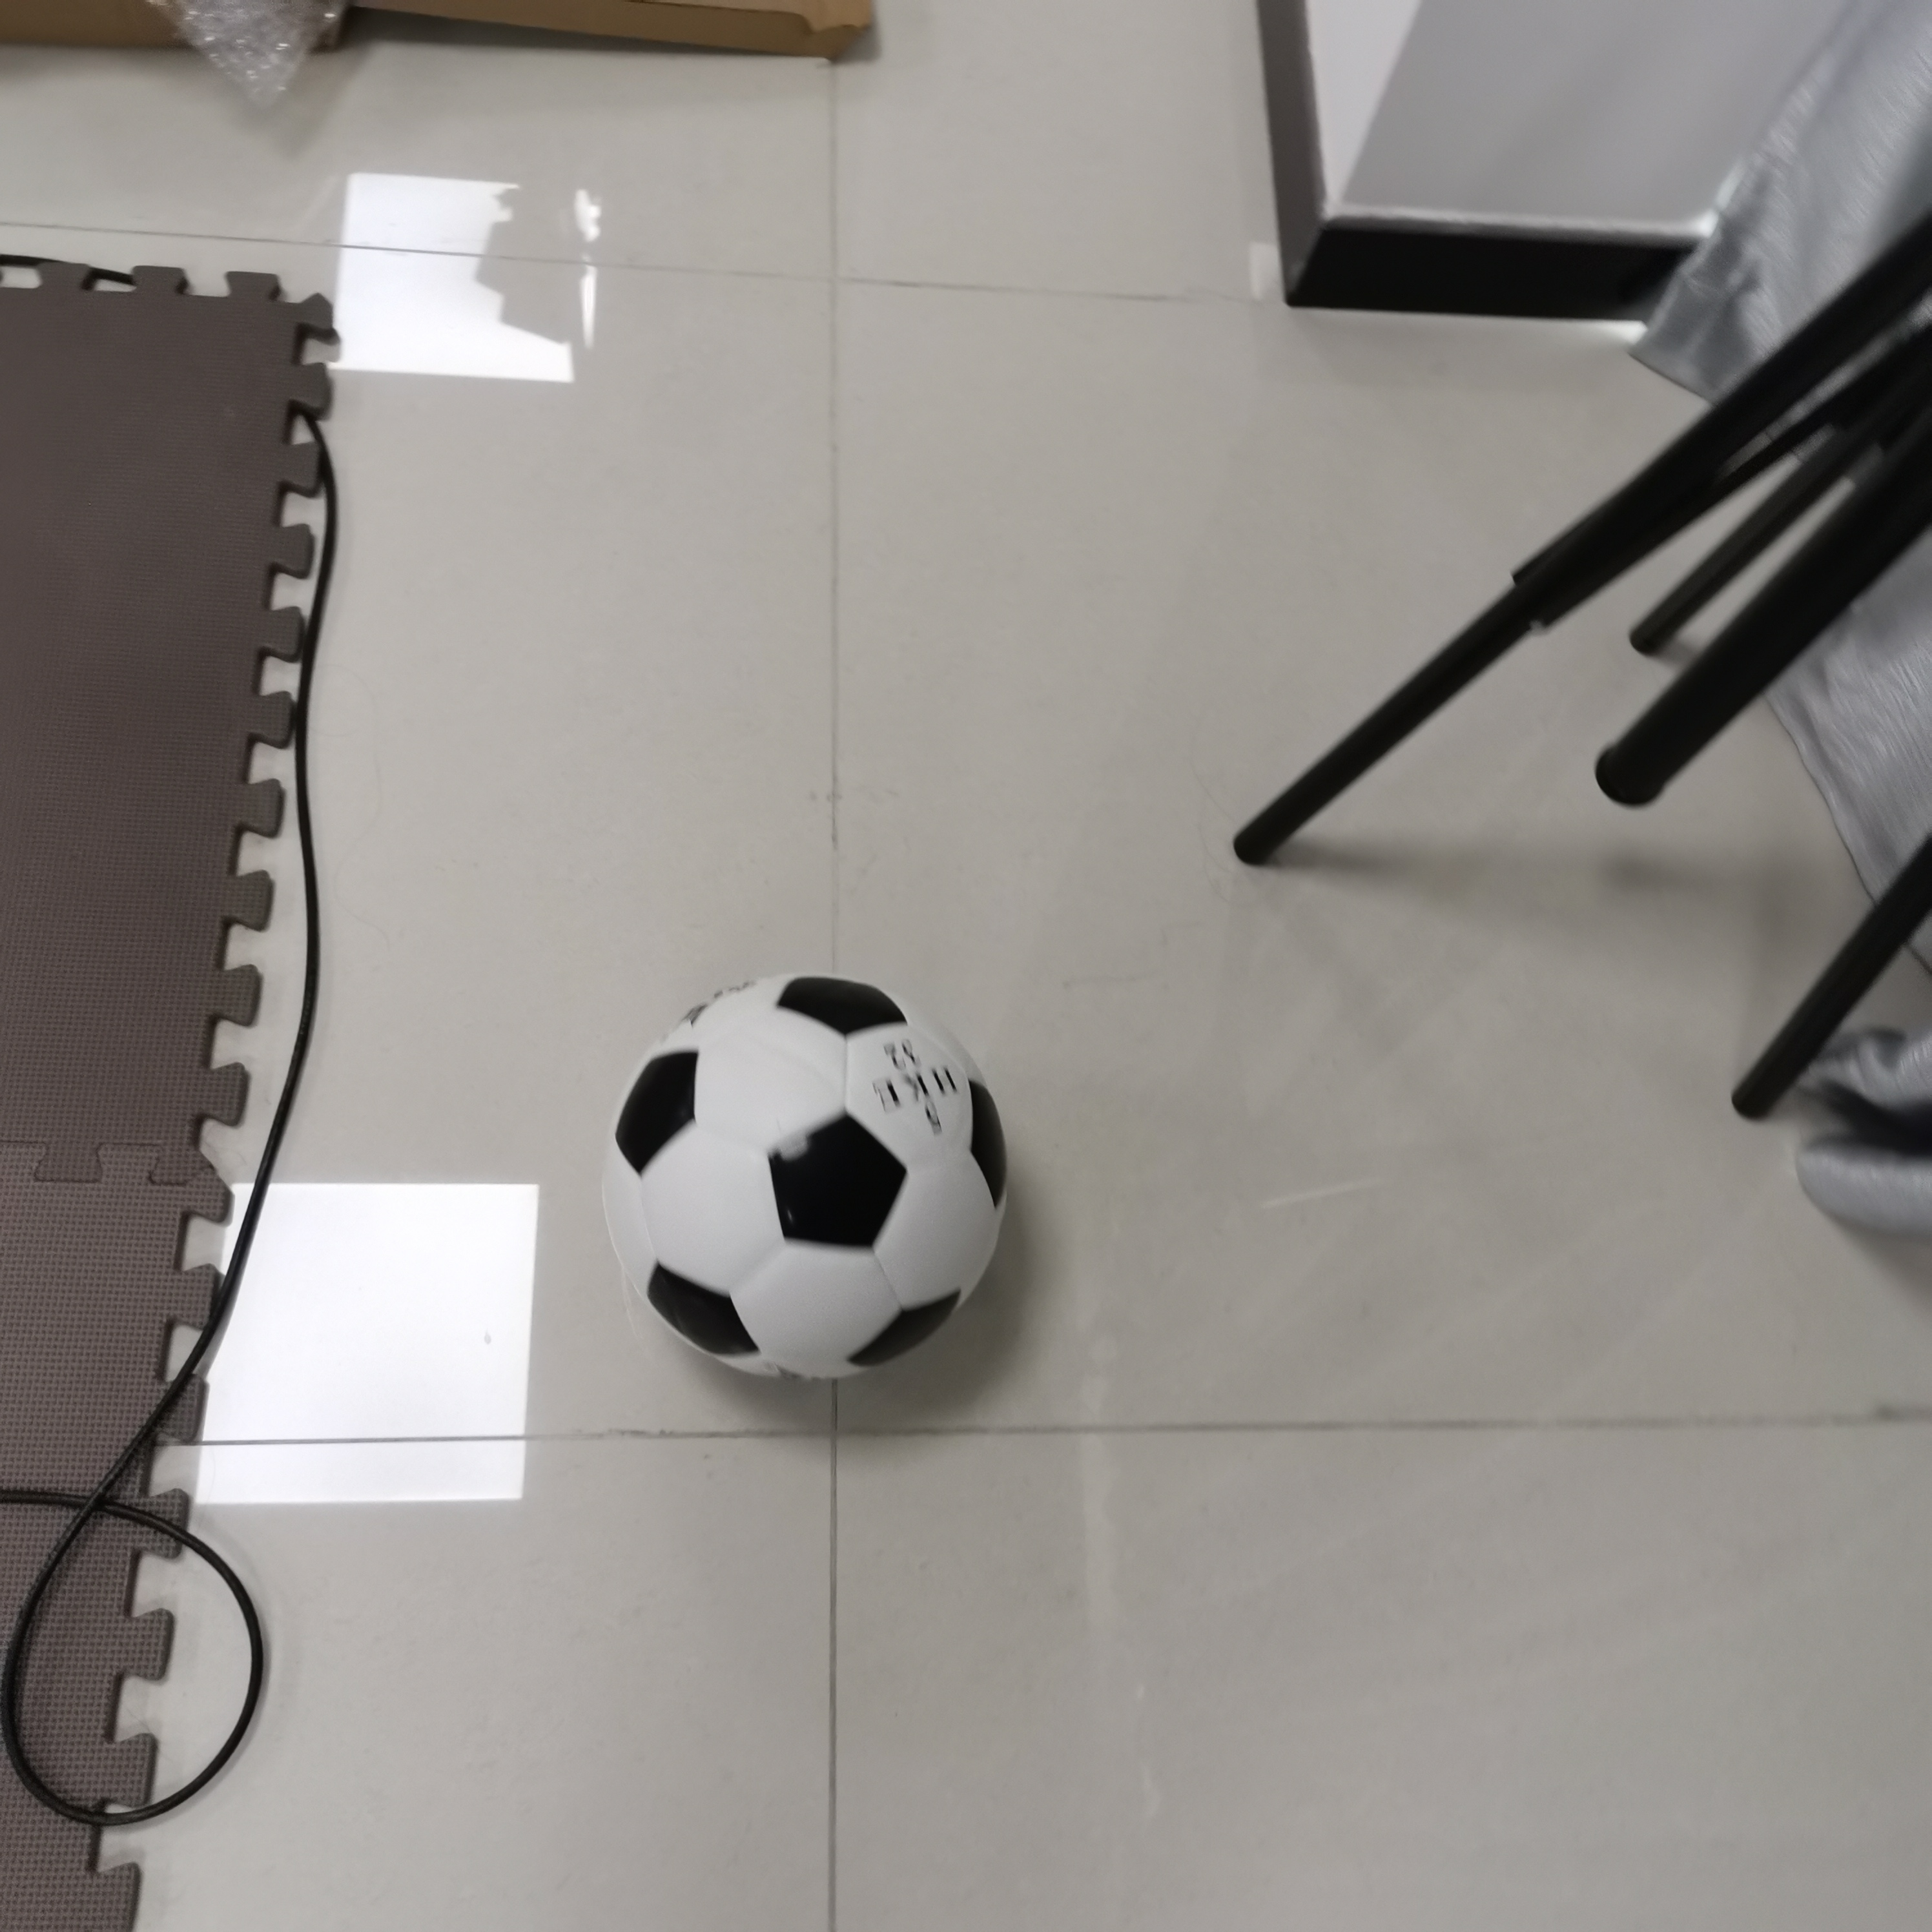football: (602, 966, 1007, 1389)
